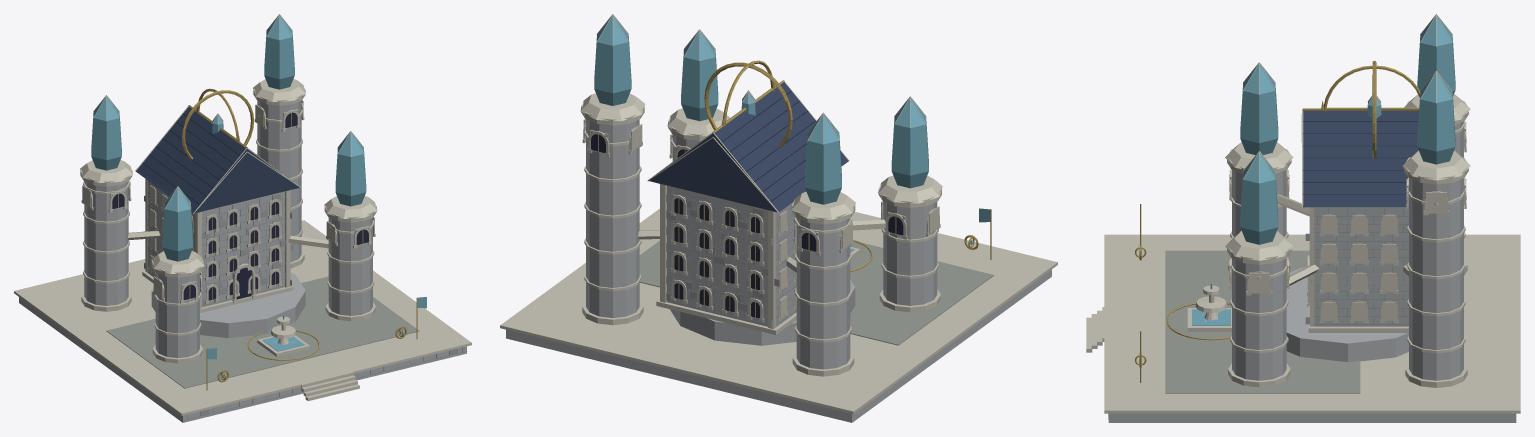
File: arcane.glb
The picture shows the model from 3 angles, left to right: view 1: azimuth 30°, elevation 25°; view 2: azimuth 150°, elevation 25°; view 3: azimuth 270°, elevation 25°; orthographic projection. The views are drawn at different scales.
Visible parts, largest first — view 1: star-citadel, precinct-base, star-citadel-roof, inhabited-detail; view 2: star-citadel, precinct-base, star-citadel-roof; view 3: precinct-base, star-citadel, star-citadel-roof, inhabited-detail.
Boxes of the visible parts, x1,y1,x2,y2 form: star-citadel: (80, 86, 376, 363); precinct-base: (14, 220, 471, 422); star-citadel-roof: (80, 14, 377, 273); inhabited-detail: (183, 297, 466, 420); star-citadel: (581, 60, 941, 376); precinct-base: (500, 208, 1057, 422); star-citadel-roof: (580, 14, 942, 219); precinct-base: (1104, 234, 1520, 422); star-citadel: (1166, 61, 1468, 387); star-citadel-roof: (1225, 14, 1470, 260); inhabited-detail: (1086, 204, 1146, 419).
Bounding box in the file's own units: 23.5 × 19.84 × 24.52.
